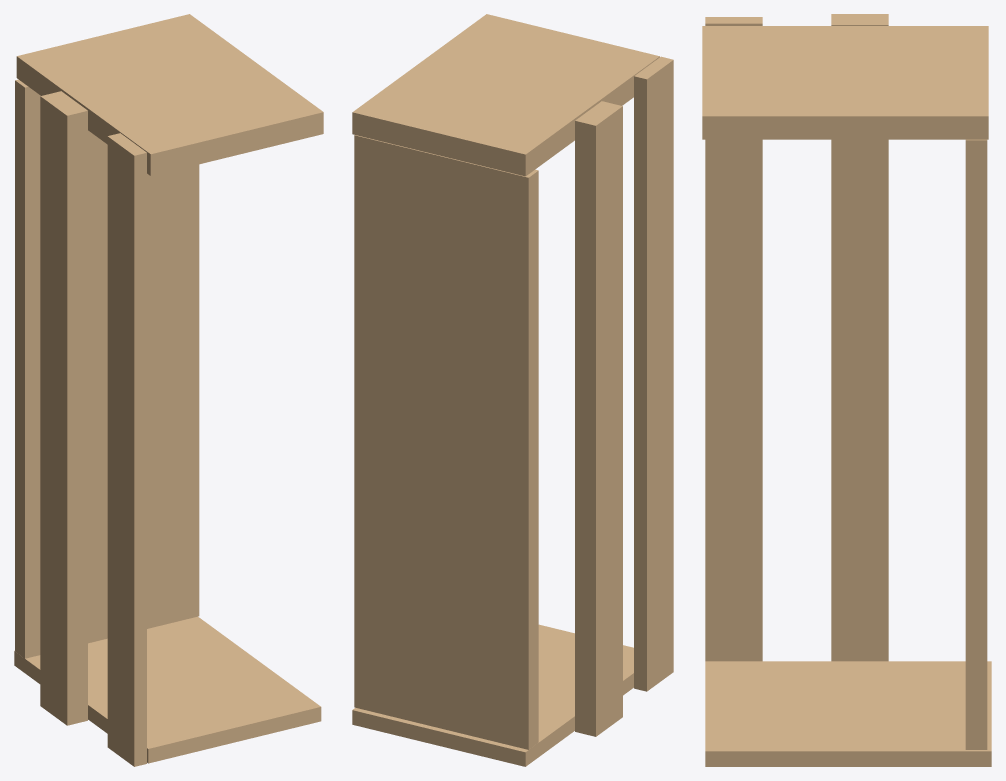
Rendered from tinker.obj.
The picture shows the model from 3 angles, left to right: view 1: azimuth 30°, elevation 25°; view 2: azimuth 150°, elevation 25°; view 3: azimuth 270°, elevation 25°; orthographic projection. The views are drawn at different scales.
Parts seen in each view (by area): view 1: obj_0; view 2: obj_0; view 3: obj_0.
Part boxes in pixels (x1,y1,x2,y2): obj_0: (14, 14, 323, 766); obj_0: (352, 14, 673, 766); obj_0: (702, 14, 991, 766).
Bounding box in the file's own units: 169 × 503 × 202.
